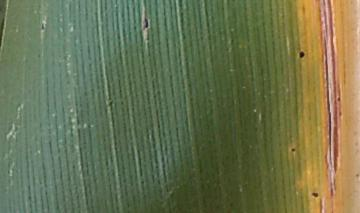tarspot: (142, 13, 151, 31), (295, 50, 307, 60), (310, 190, 321, 199), (38, 22, 47, 32), (105, 100, 115, 109), (289, 145, 298, 154)
